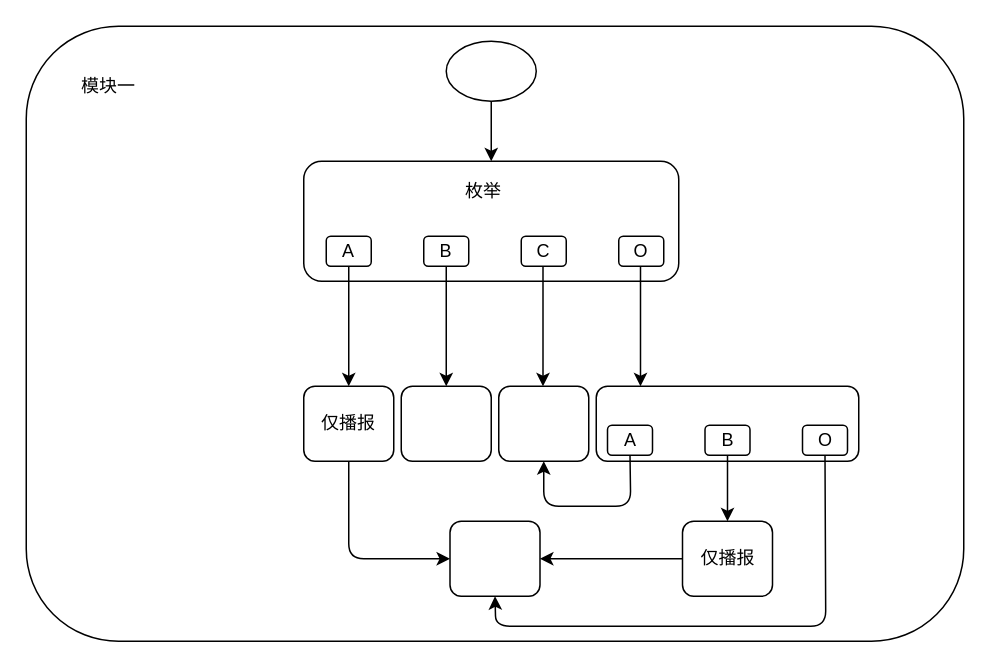
The diagram is 990 pixels wide and 668 high, and some of its shapes have lost their labels. The box of each missing label's shape, as (x1, y1, x2, y2) in pixels:
END: (448, 520, 540, 596)
start: (445, 40, 536, 101)
布尔: (595, 385, 859, 461)
模块2: (400, 385, 491, 461)
模块3: (497, 385, 589, 461)
